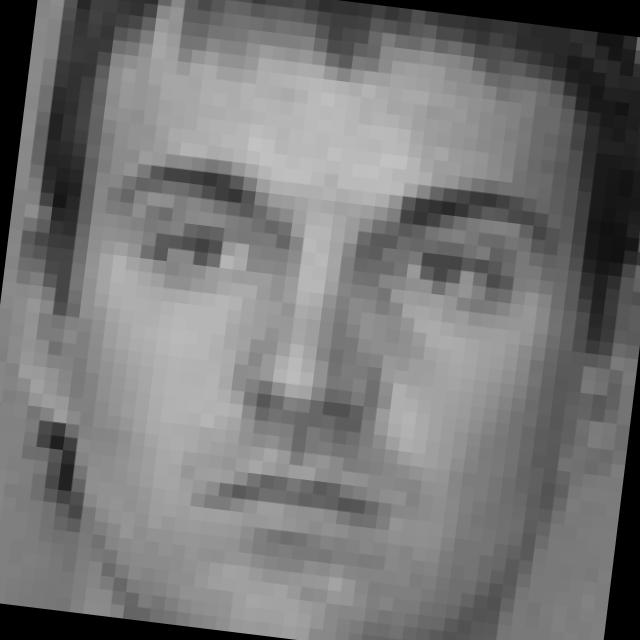neutral: (60, 140, 571, 582)
